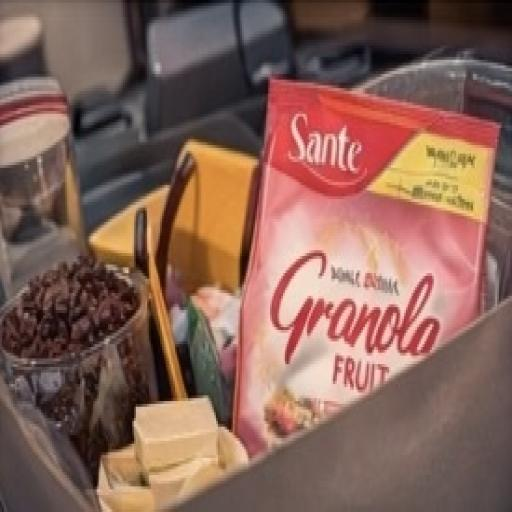granola: (214, 56, 502, 480)
